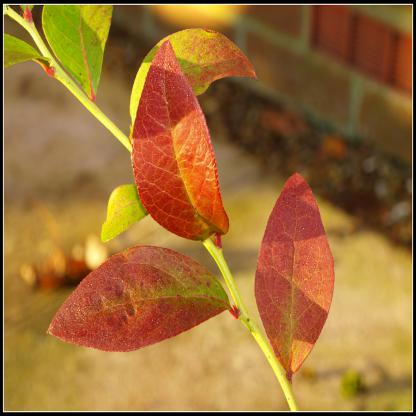Blueberry leaf: (128, 34, 239, 249), (41, 238, 241, 352), (252, 166, 338, 381)
